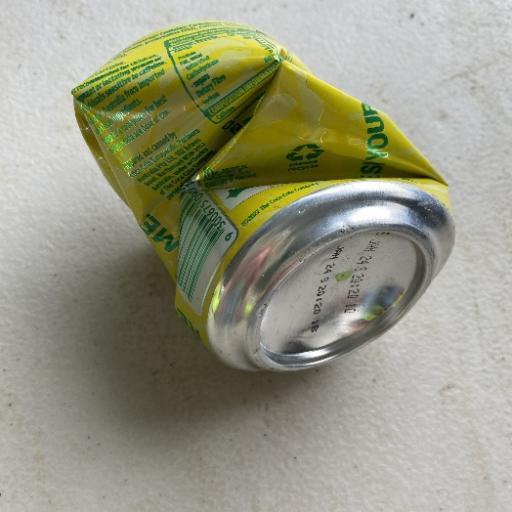Metal: (70, 20, 458, 374)
